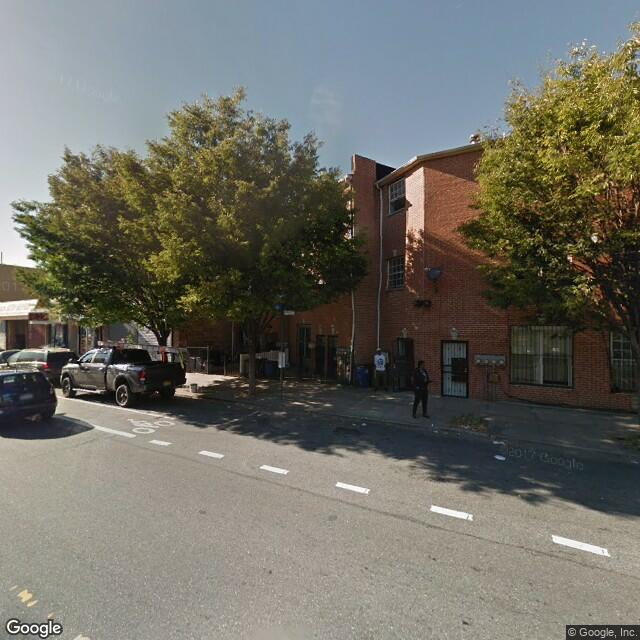litter: (483, 435, 526, 450), (486, 452, 526, 464), (351, 415, 381, 428)
